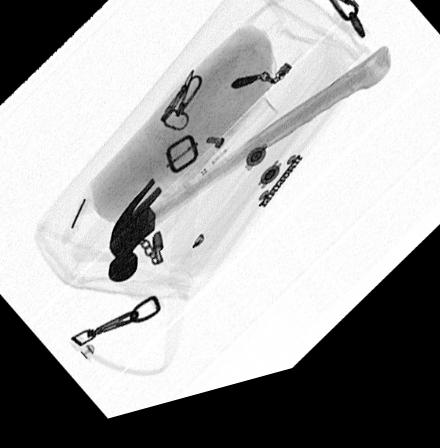Hammer: (108, 65, 391, 289)
